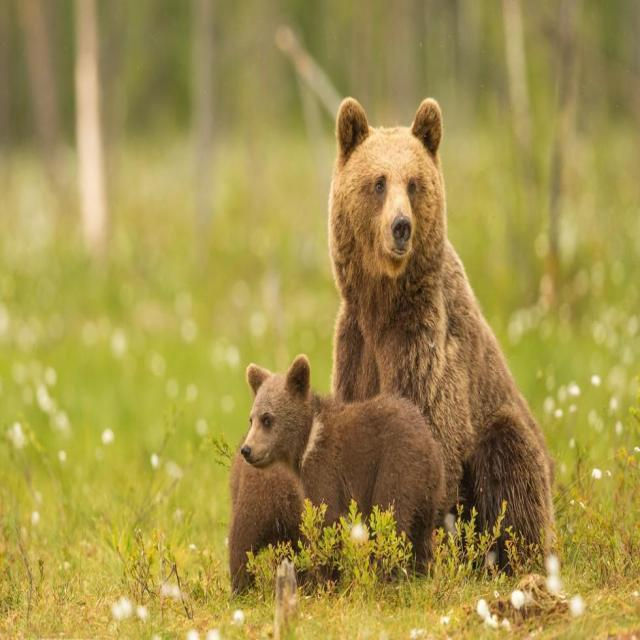Bear: (327, 98, 551, 567), (242, 357, 451, 575), (227, 456, 303, 595)
